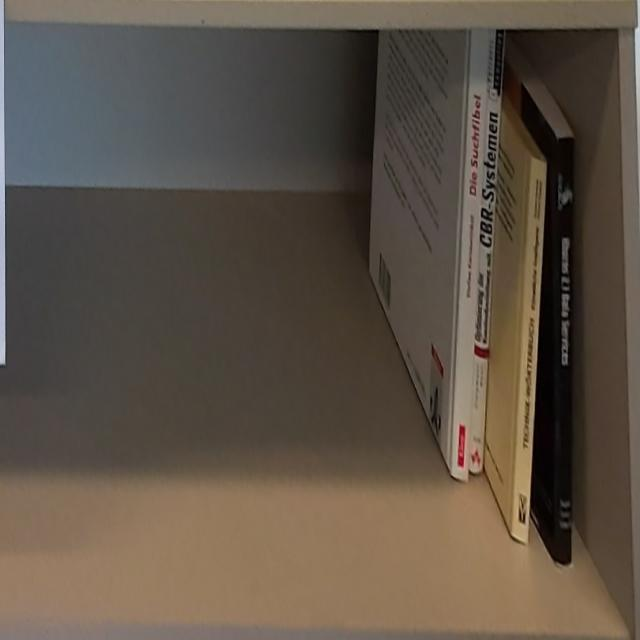Book Spine: (467, 28, 509, 478), (450, 27, 490, 486), (509, 153, 546, 547), (555, 133, 577, 571)
